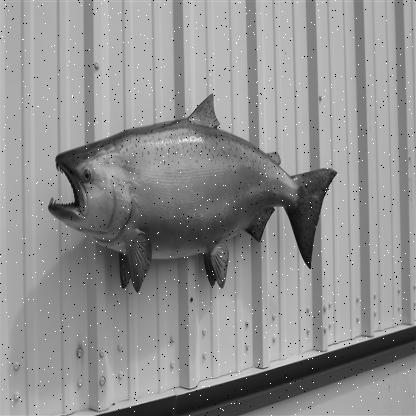fish: (48, 91, 336, 290)
